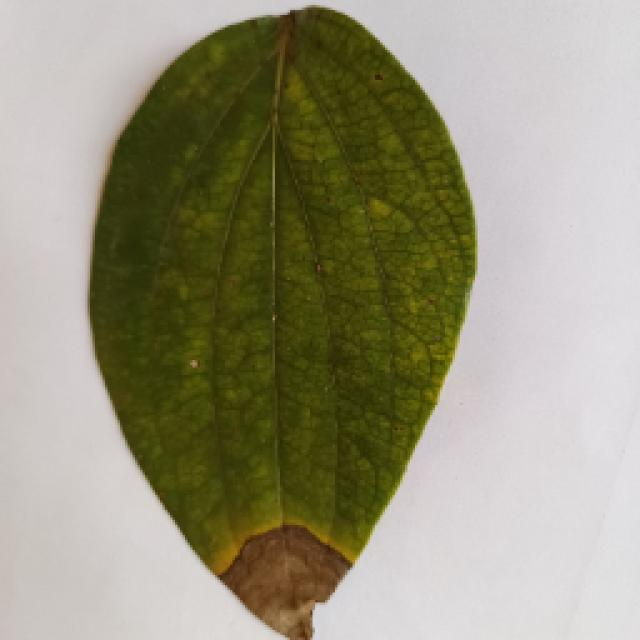footrot: (85, 12, 475, 632)
